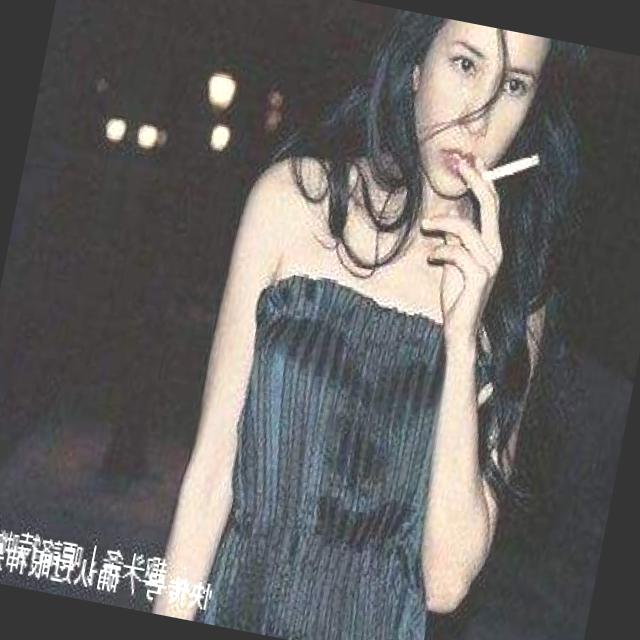cigarette: (482, 142, 541, 194)
